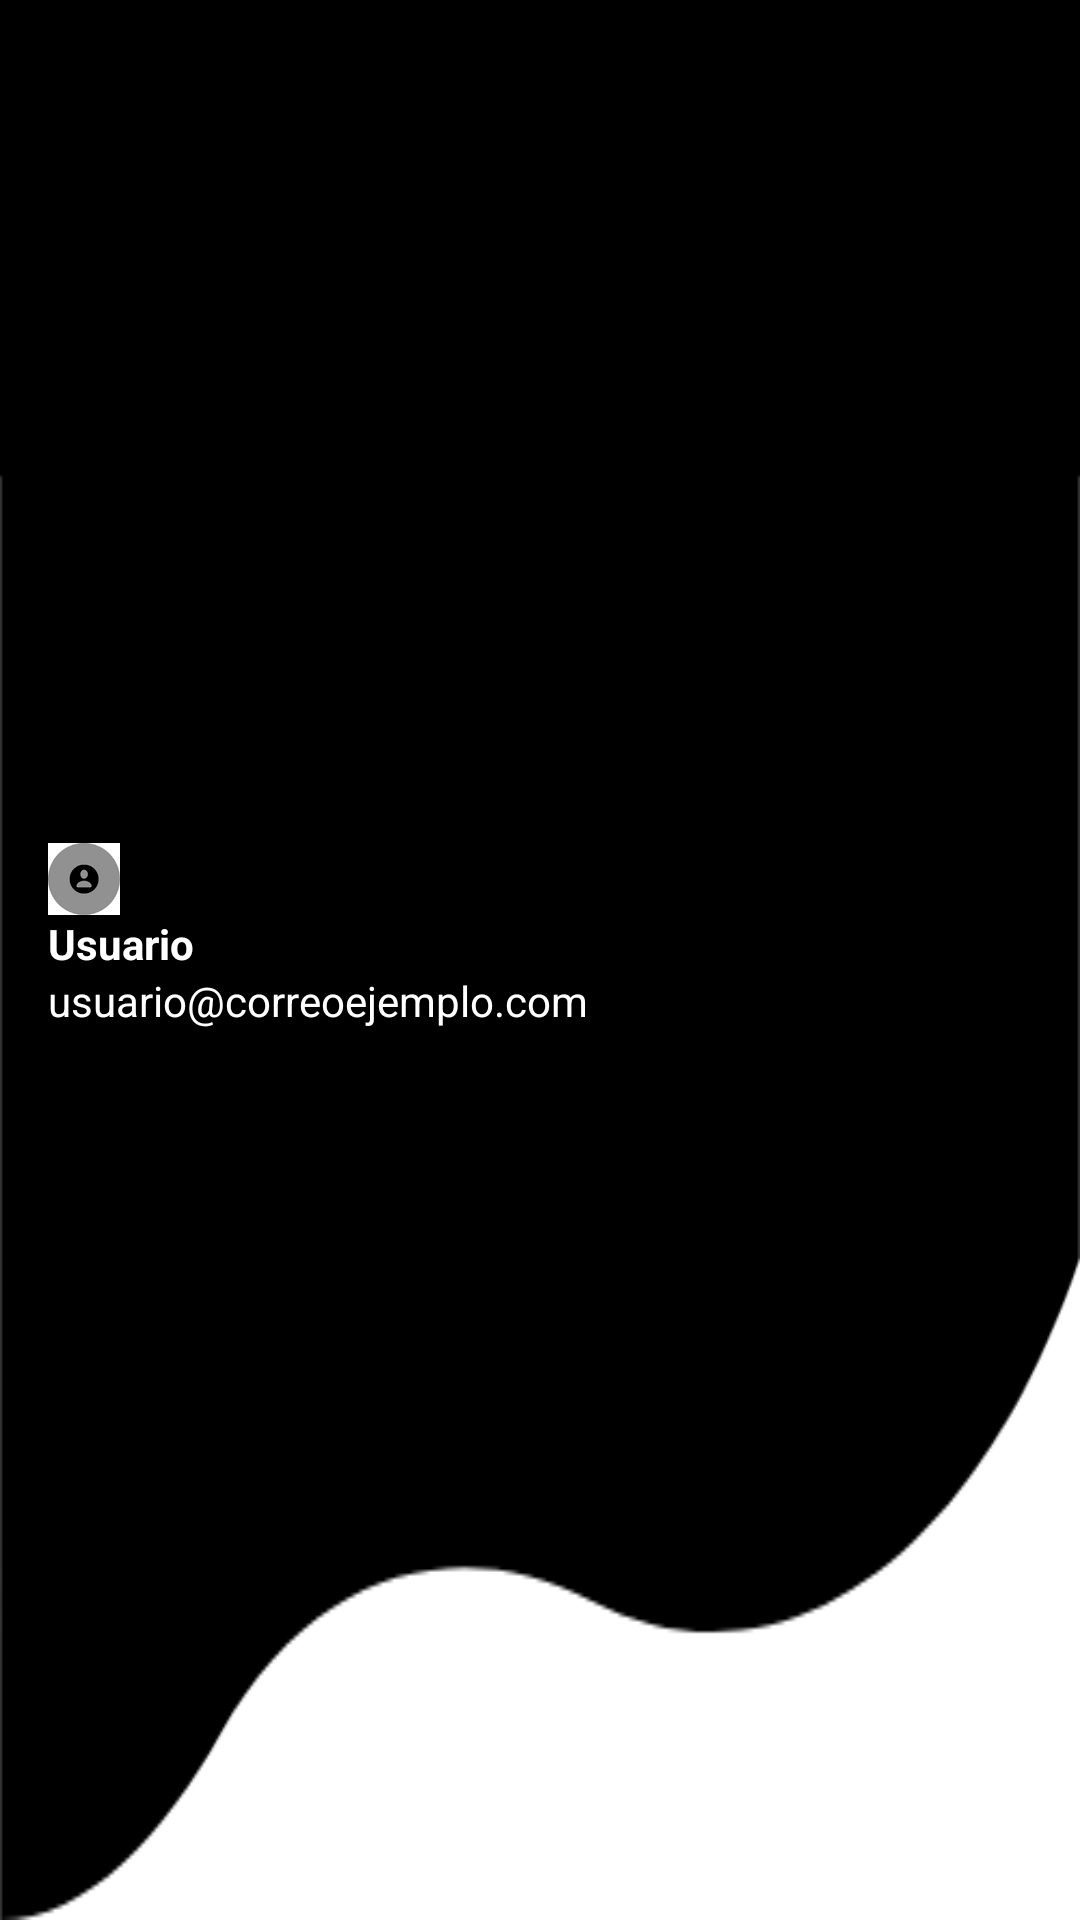

Locate icon controls on the screen. Image size 1080px x 1920px, boxes as (x1, y1, x2, y2).
profilepic: (48, 843, 120, 915)
